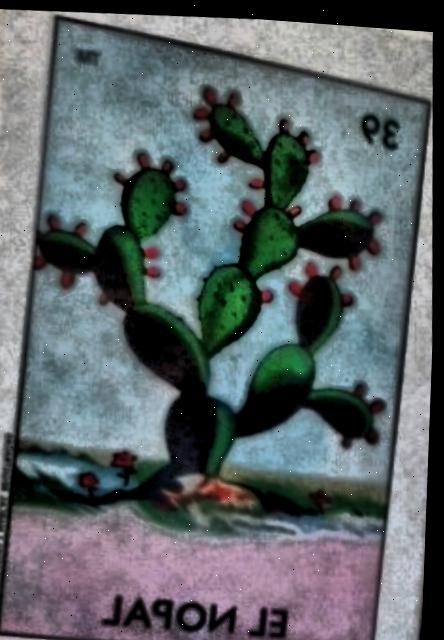El Nopal: (0, 15, 426, 640)
